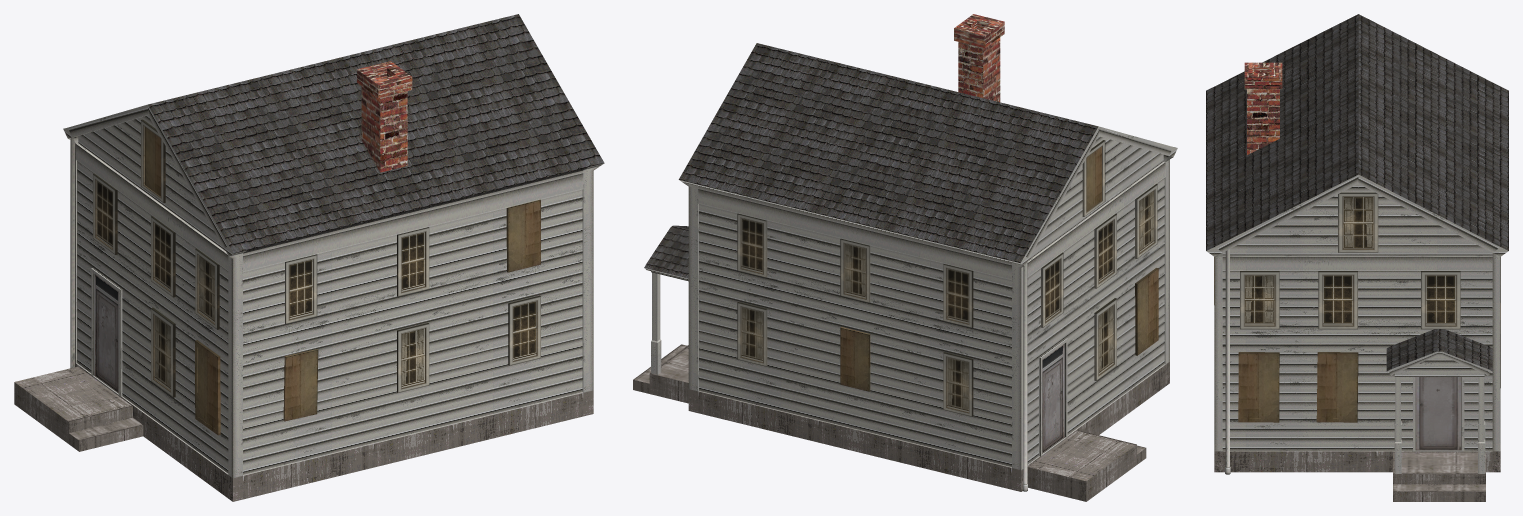
File: BLDG_House_B.fbx
3 views of the same model, side by side, from view 1: azimuth 30°, elevation 25°; view 2: azimuth 150°, elevation 25°; view 3: azimuth 270°, elevation 25° (orthographic). The views are drawn at different scales.
Parts seen in each view (by area): view 1: BLDG_House_B; view 2: BLDG_House_B; view 3: BLDG_House_B.
Part boxes in pixels (bbox=[...]): BLDG_House_B: bbox=[14, 14, 604, 501]; BLDG_House_B: bbox=[633, 14, 1177, 501]; BLDG_House_B: bbox=[1206, 14, 1508, 501].
Bounding box in the file's own units: 2556 × 1808 × 1532.
